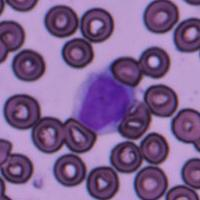L: (70, 68, 136, 134)
